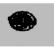correct: (5, 10, 42, 36)
